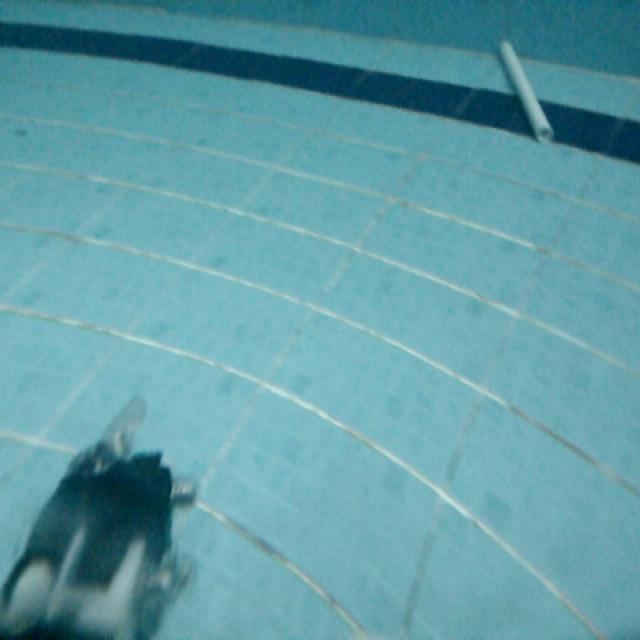Cube: (494, 33, 557, 144)
